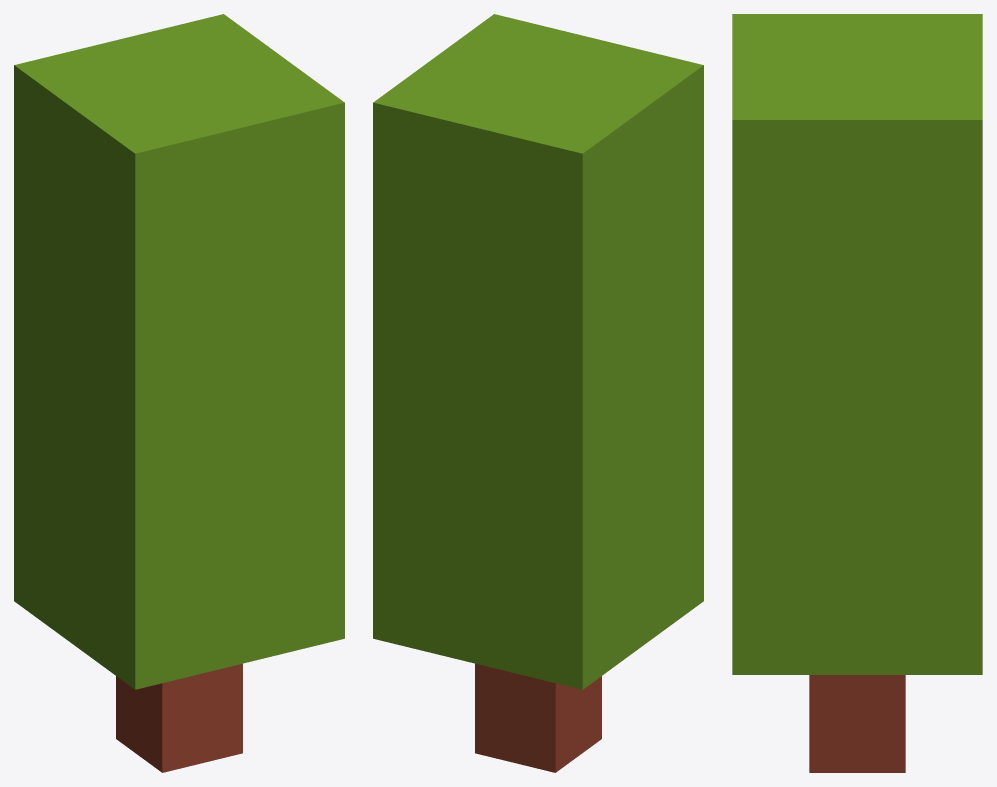
Rendered from CubeTree.fbx.
The picture shows the model from 3 angles, left to right: view 1: azimuth 30°, elevation 25°; view 2: azimuth 150°, elevation 25°; view 3: azimuth 270°, elevation 25°; orthographic projection. The views are drawn at different scales.
Parts seen in each view (by area): view 1: Cube; view 2: Cube; view 3: Cube.
Part boxes in pixels (bbox=[...]): Cube: bbox=[14, 14, 344, 772]; Cube: bbox=[373, 14, 703, 772]; Cube: bbox=[732, 14, 982, 772].
Size of the model in its own units: 170 by 513 by 170.
